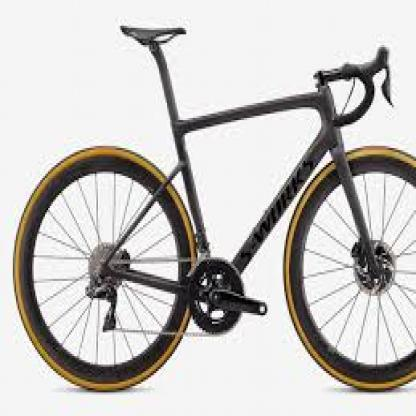Bike: (17, 21, 416, 401)
